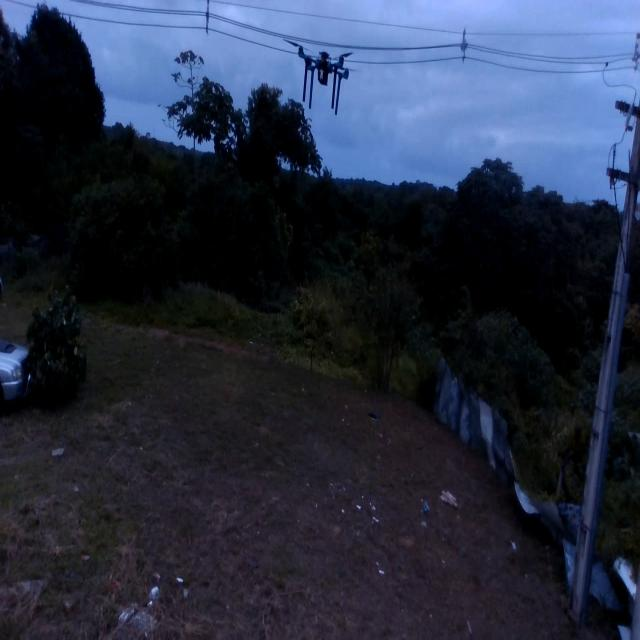-uav-: (280, 33, 356, 120)
